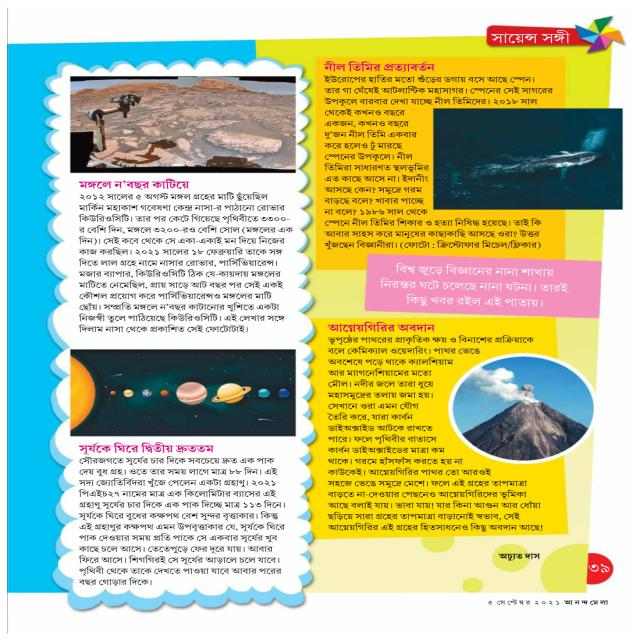image: (65, 75, 298, 175), (427, 101, 625, 210), (67, 349, 295, 440), (451, 356, 594, 464)
page number: (582, 559, 617, 582)
paragraph: (316, 68, 560, 261), (317, 335, 548, 536), (73, 190, 292, 338), (71, 449, 283, 588), (374, 260, 570, 316)
text: (476, 596, 619, 614), (485, 30, 578, 46), (496, 552, 546, 563)
title: (70, 435, 222, 457), (61, 170, 192, 195), (317, 320, 450, 339), (321, 58, 445, 73)
